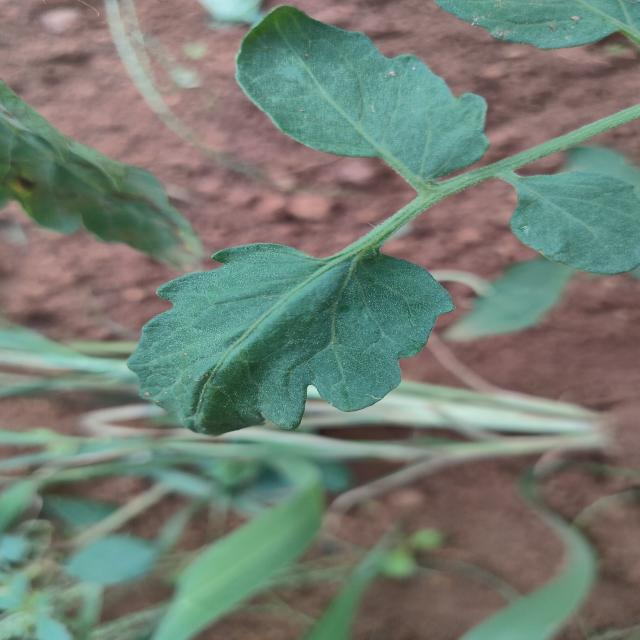tomato_healthy: (128, 220, 454, 434), (235, 5, 489, 186), (439, 0, 640, 48)
